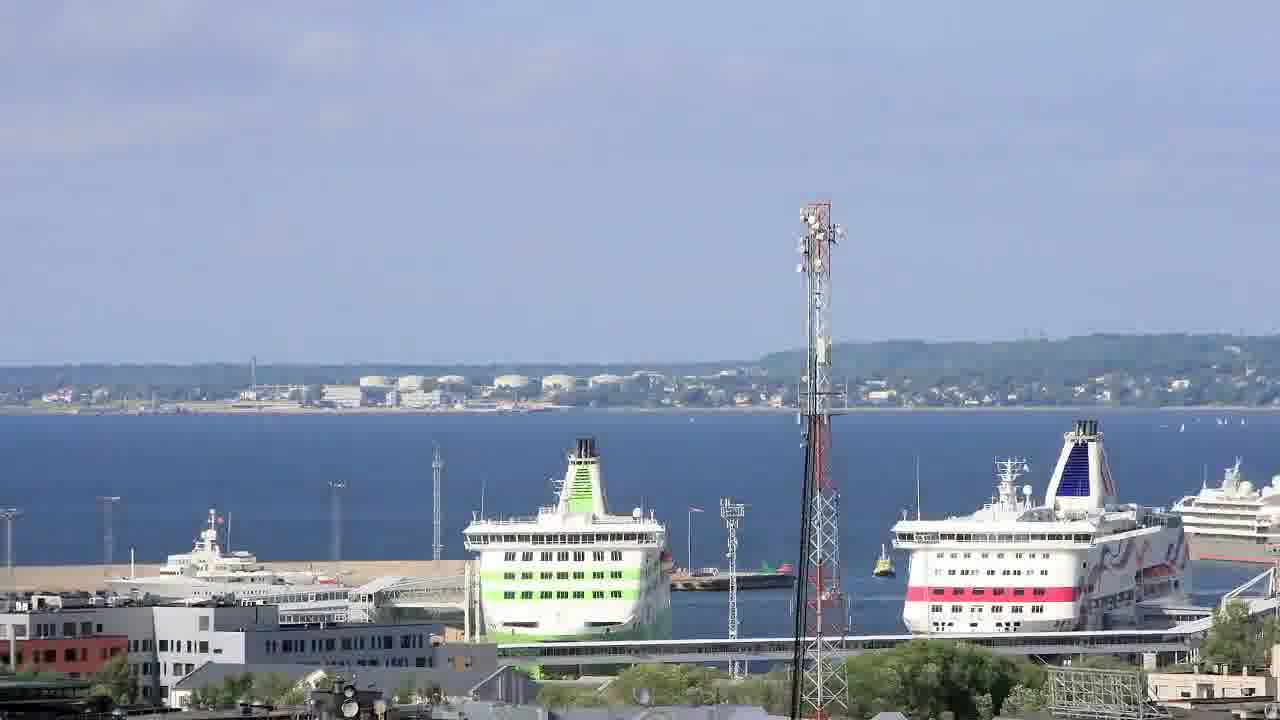type-0: (862, 533, 900, 590)
type-3: (868, 415, 1225, 638), (436, 434, 694, 670), (85, 517, 379, 620), (1191, 458, 1280, 607)
